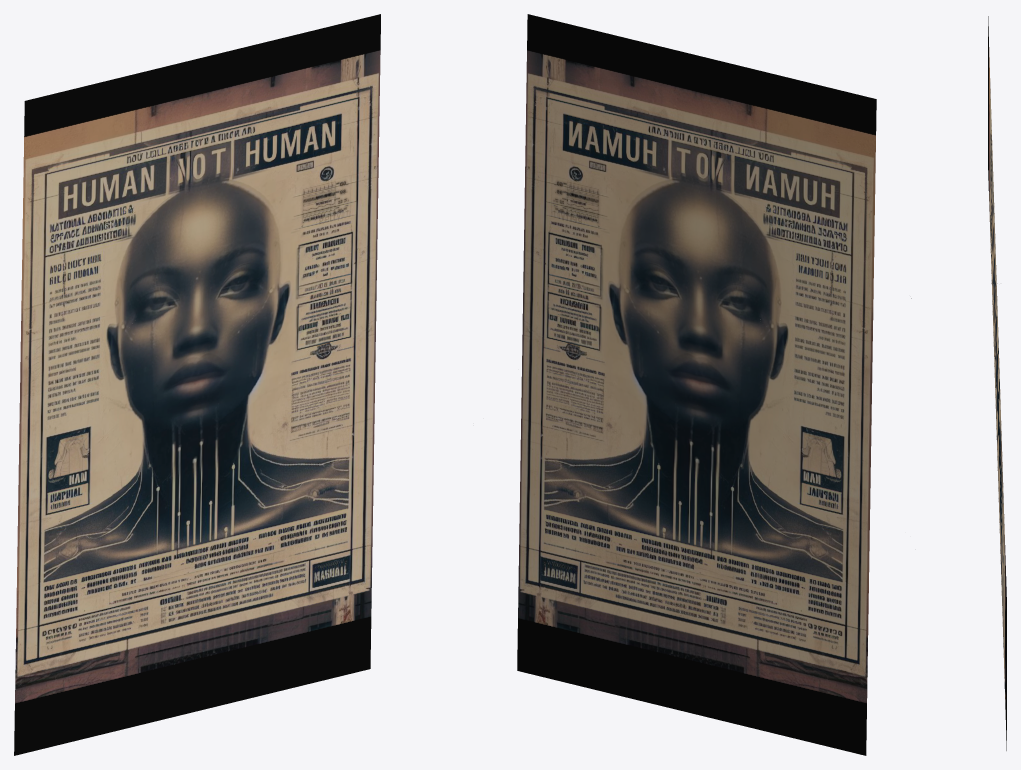
File: cybertruck_scene.glb
The picture shows the model from 3 angles, left to right: view 1: azimuth 30°, elevation 25°; view 2: azimuth 150°, elevation 25°; view 3: azimuth 270°, elevation 25°; orthographic projection. The views are drawn at different scales.
Visible parts, largest first — view 1: COMP_4_15; view 2: COMP_4_15; view 3: COMP_4_15.
Boxes of the visible parts, x1,y1,x2,y2 form: COMP_4_15: (14, 14, 380, 755); COMP_4_15: (517, 14, 876, 755); COMP_4_15: (988, 16, 1006, 750).
Bounding box in the file's own units: 8.34 × 12.71 × 2.
4 materials, 1 textured.
